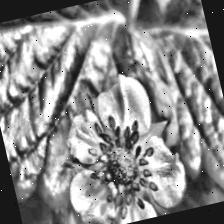Blossom Blight: (75, 103, 170, 224)
